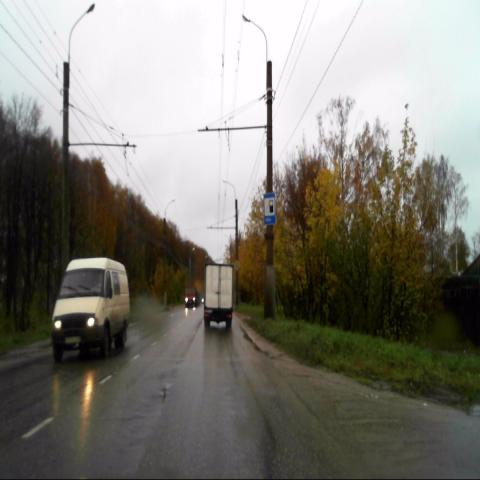7_3: (264, 191, 275, 223)
